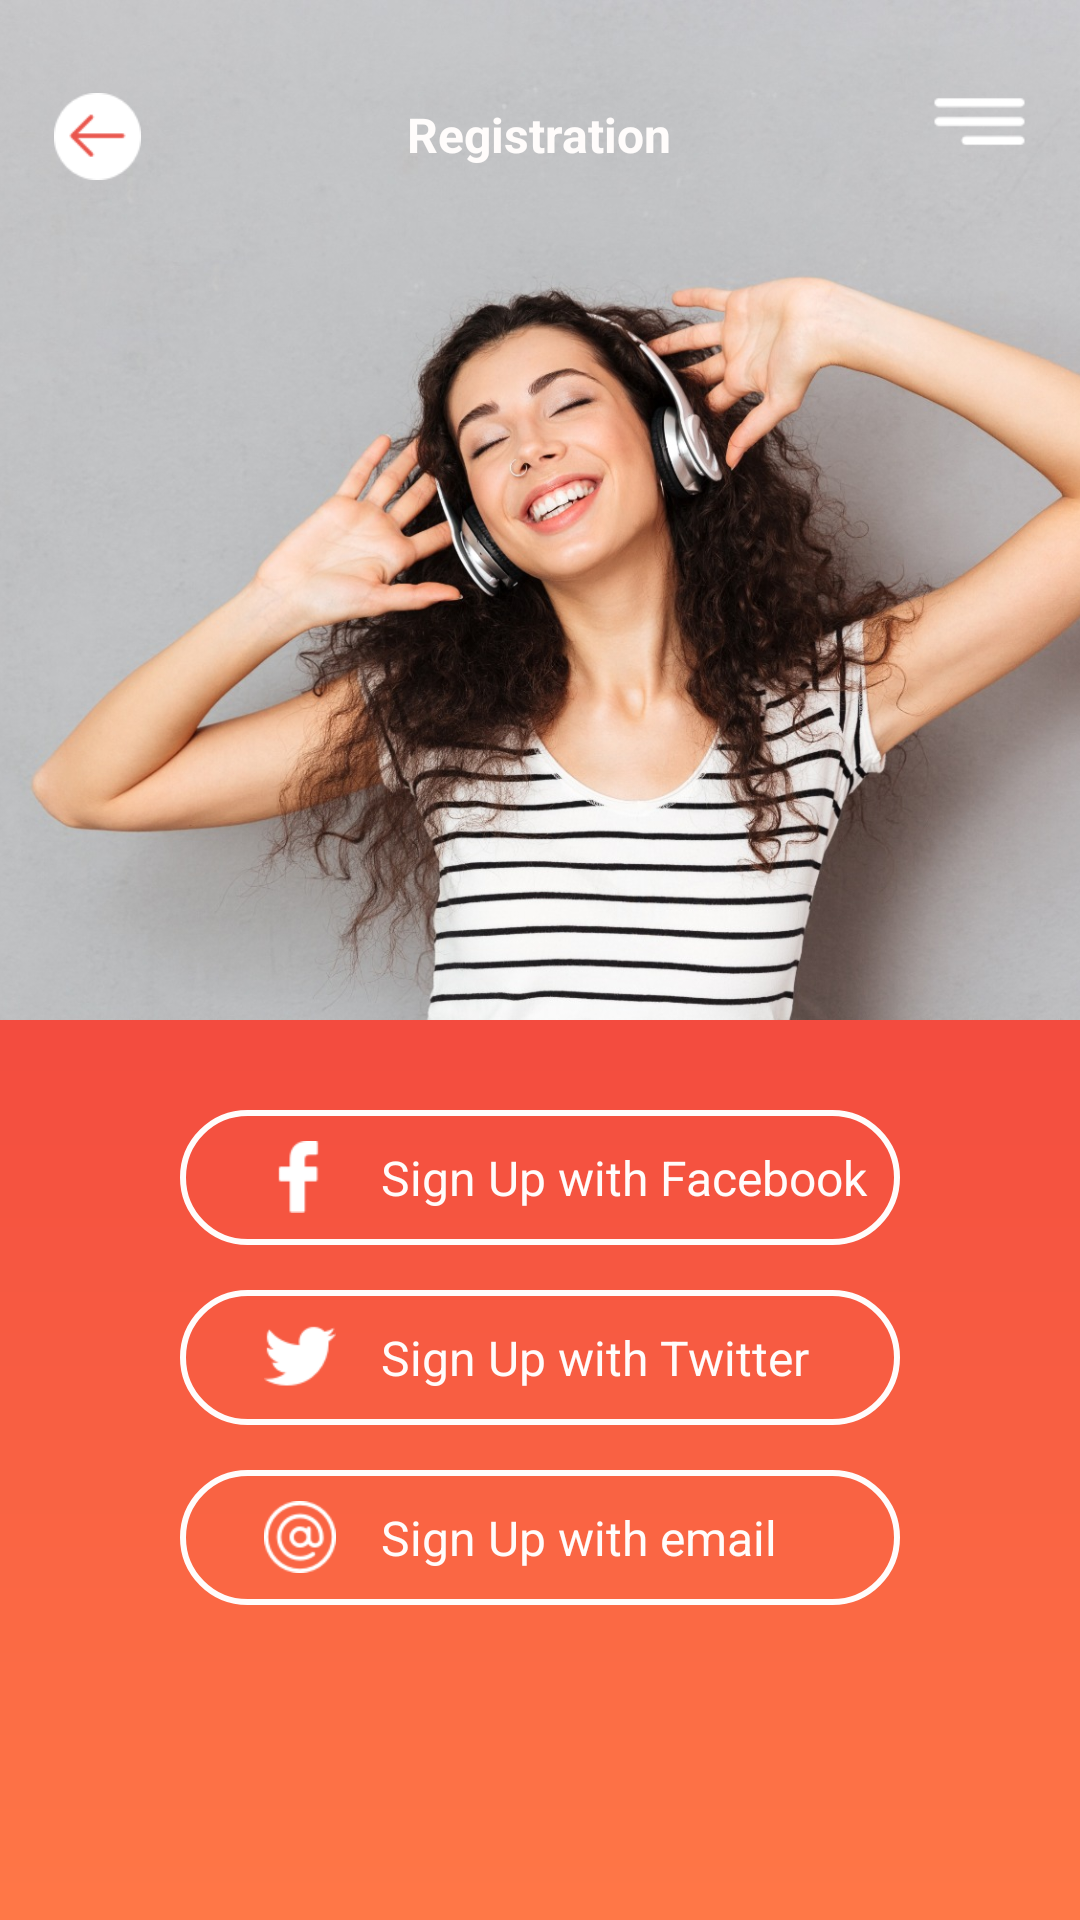

Where to tap for icons on this 1080px x 1920px app screen, as point (x, y):
back: point (97, 136)
burgerwhite: point (979, 121)
